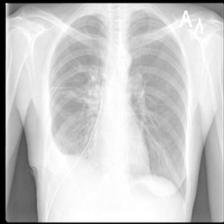tuberculosis: (44, 6, 192, 209)
